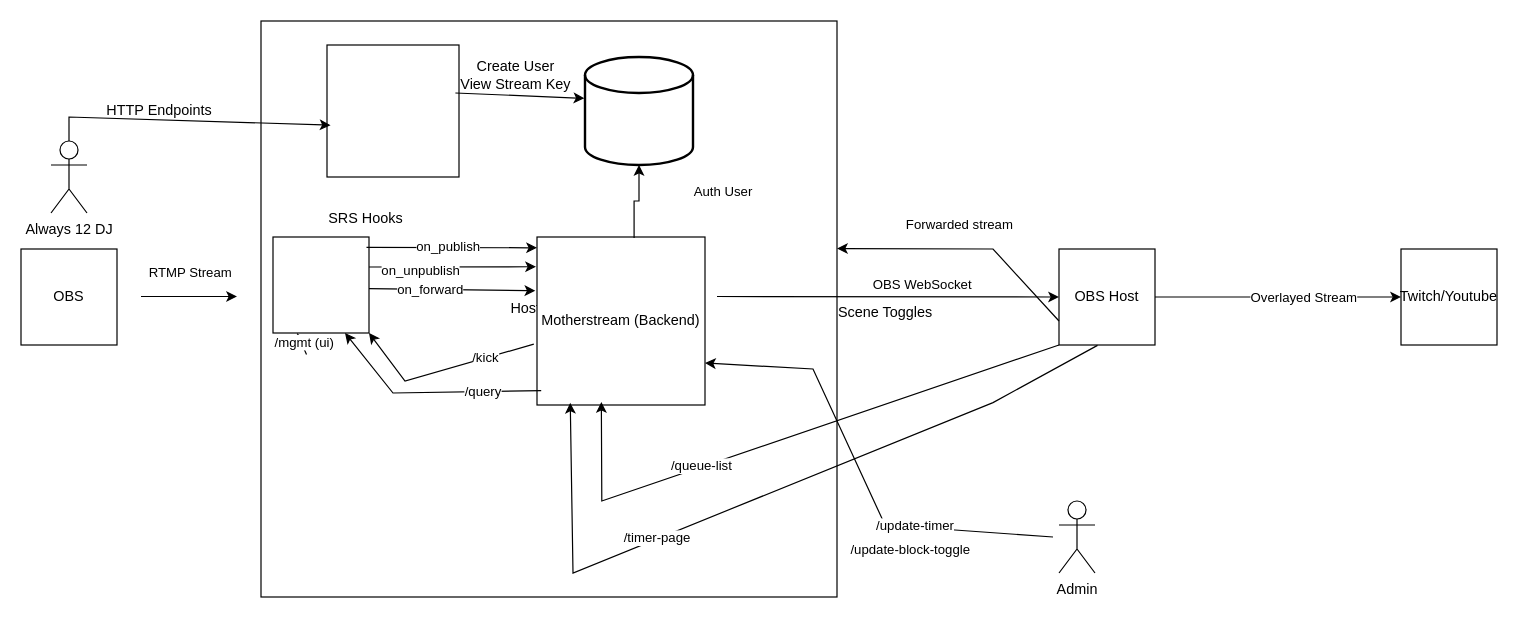
Image size: 1518x619. Some labels were removed from this diagram. Here are the shapes that lost their labels. From the top down, the centre of each, then its label:
[392,110]: Motherstream UI
[638,110]: PGDB
[320,284]: srs
